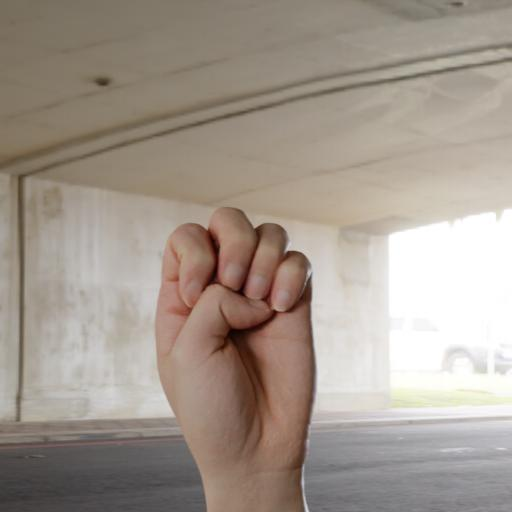E: (153, 201, 323, 467)
